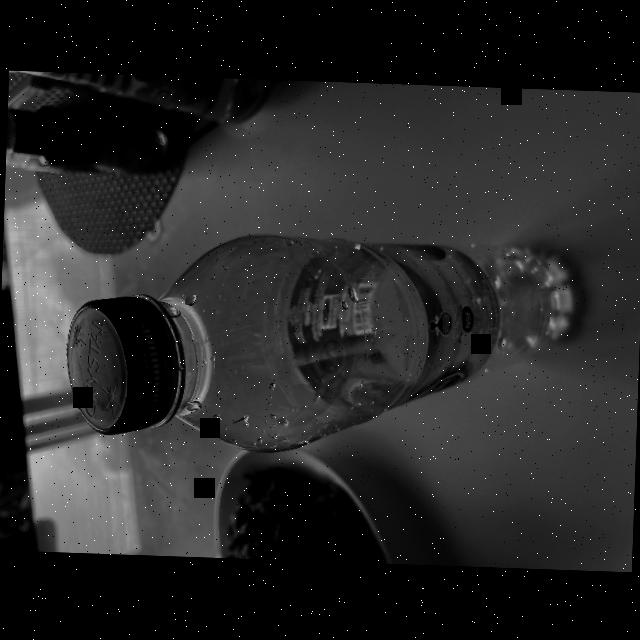plastic_bottle: (63, 221, 579, 469)
